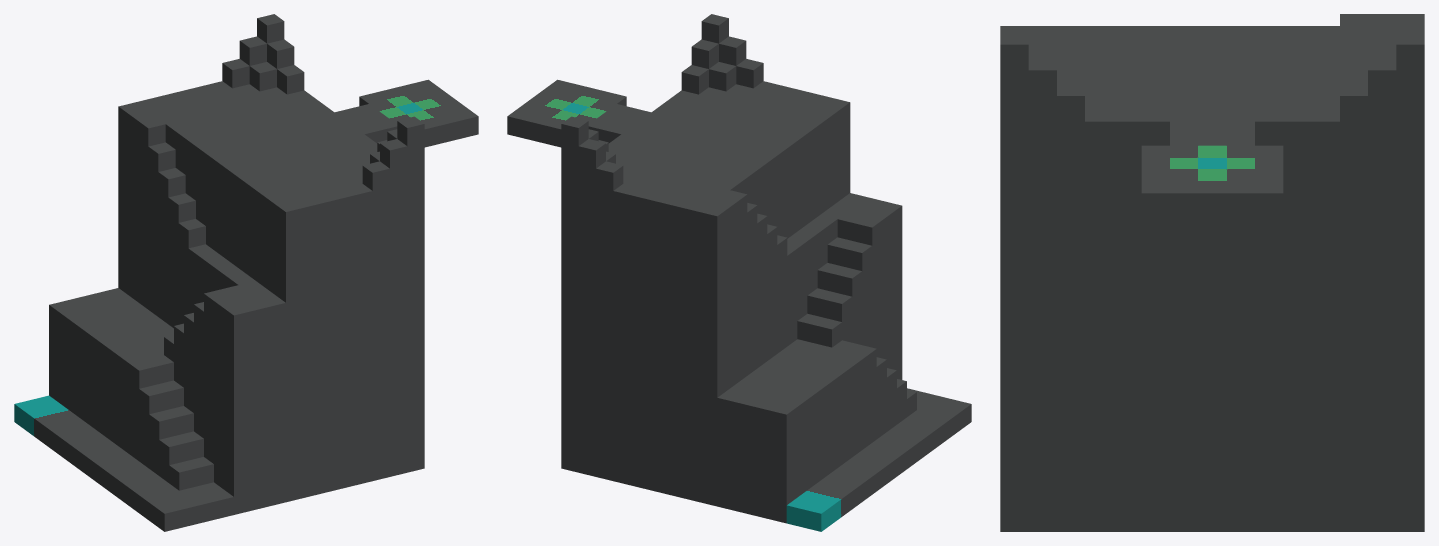
The model's file is level2.dae.
The picture shows the model from 3 angles, left to right: view 1: azimuth 30°, elevation 25°; view 2: azimuth 150°, elevation 25°; view 3: azimuth 270°, elevation 25°; orthographic projection. The views are drawn at different scales.
Visible parts, largest first — view 1: Map_Dragon; view 2: Map_Dragon; view 3: Map_Dragon.
Boxes of the visible parts, bbox=[...] form: Map_Dragon: bbox=[14, 14, 478, 531]; Map_Dragon: bbox=[507, 14, 971, 531]; Map_Dragon: bbox=[1000, 14, 1424, 531].
Bounding box in the file's own units: 21 × 19 × 15.
